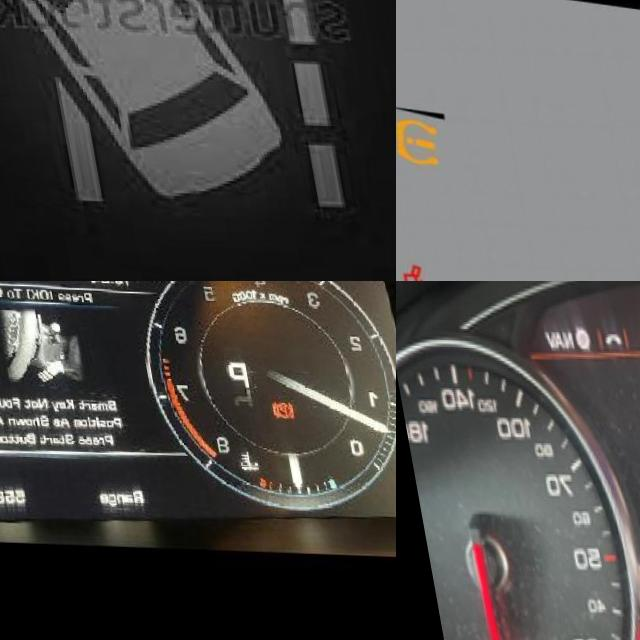Engine cooling system: (220, 446, 247, 470)
